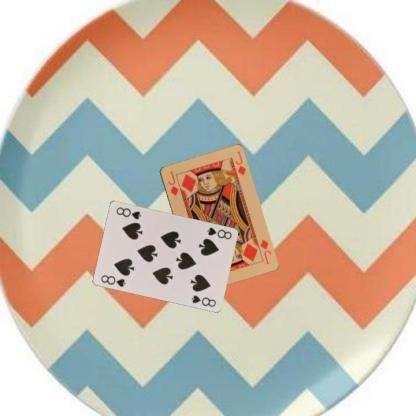8s: (98, 272, 127, 288), (204, 225, 233, 240)
Jd: (165, 169, 180, 197), (257, 237, 272, 265)
